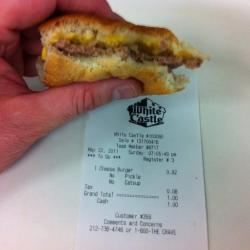burger: (29, 14, 202, 106)
